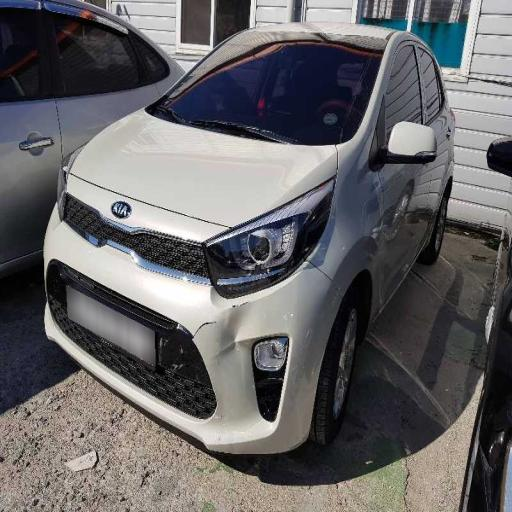broken: (125, 222, 306, 437), (285, 114, 371, 229)
